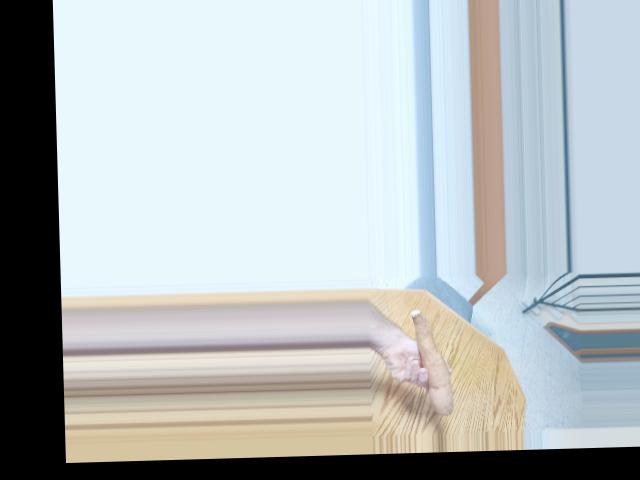sweet_potato: (409, 311, 460, 411)
